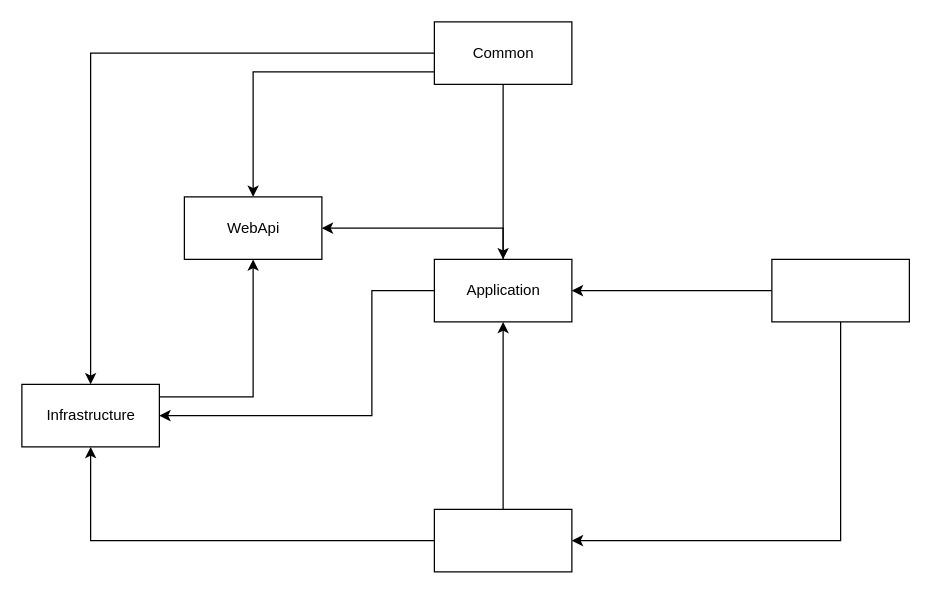
The diagram is 931 pixels wide and 594 high, and some of its shapes have lost their labels. The box of each missing label's shape, as (x1, y1, x2, y2) in pixels:
Domain: (771, 258, 909, 322)
Persistance: (433, 508, 572, 572)
